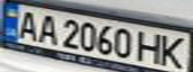0: (75, 20, 100, 53), (112, 26, 136, 60)
2: (57, 16, 81, 50)
6: (93, 22, 115, 56)
A: (12, 8, 42, 41), (33, 12, 60, 45)
H: (136, 29, 166, 65)
K: (154, 34, 190, 69)
